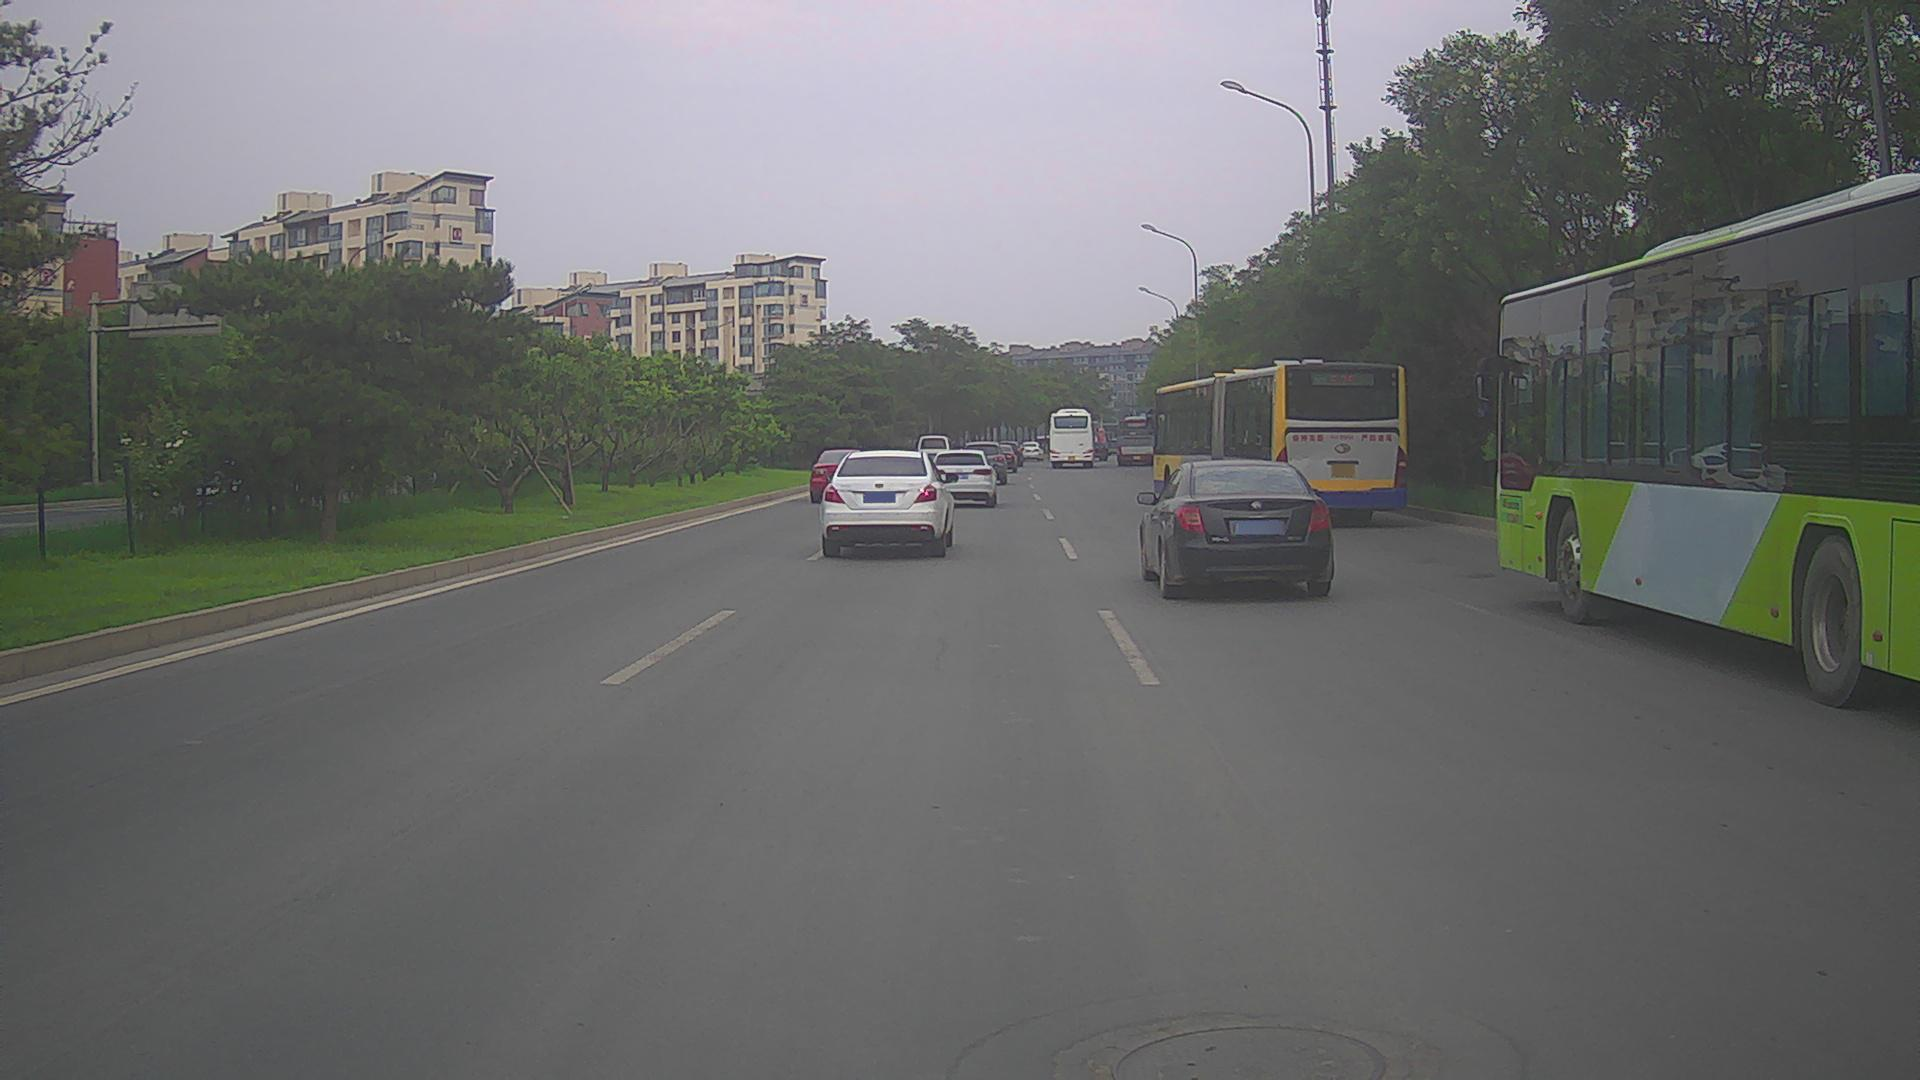bus: (1473, 171, 1920, 708), (1145, 359, 1408, 524), (1044, 409, 1091, 469), (1116, 415, 1159, 465)
car: (1135, 459, 1335, 600), (818, 448, 959, 556), (928, 448, 997, 508), (808, 448, 866, 502), (960, 440, 1007, 485), (986, 443, 1018, 473), (994, 440, 1023, 467), (1017, 440, 1044, 462)
ignore: (1106, 436, 1118, 456), (1036, 434, 1048, 454)
truck: (1077, 431, 1109, 462)
van: (916, 435, 952, 467)
